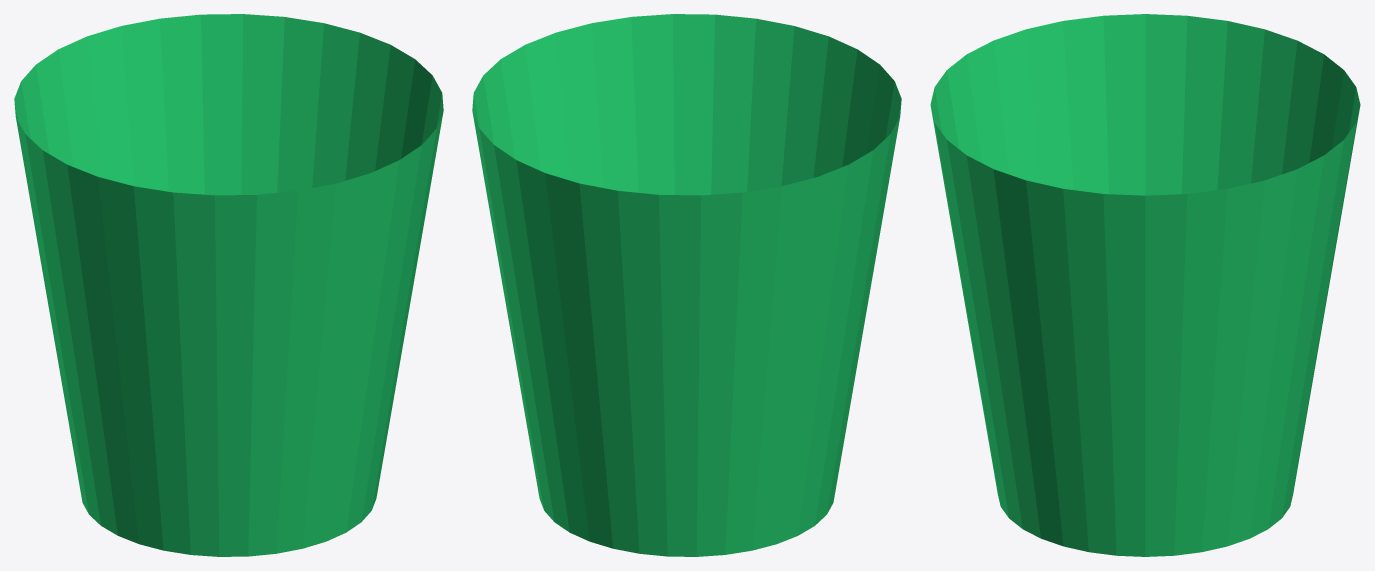
3 renders of one model, left to right at view 1: azimuth 30°, elevation 25°; view 2: azimuth 150°, elevation 25°; view 3: azimuth 270°, elevation 25°, orthographic.
Visible parts, largest first — view 1: Cylinder; view 2: Cylinder; view 3: Cylinder.
Boxes of the visible parts, left/top/right/bottom form: Cylinder: left=14, top=14, right=443, bottom=556; Cylinder: left=472, top=14, right=901, bottom=556; Cylinder: left=930, top=14, right=1360, bottom=556.
Bounding box in the file's own units: 2 × 2 × 2.
